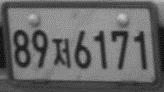1: (132, 30, 148, 70), (92, 29, 107, 70)
6: (73, 29, 92, 69)
7: (110, 29, 128, 69)
8: (12, 29, 30, 67)
9: (31, 29, 48, 68)
저: (51, 37, 71, 68)
